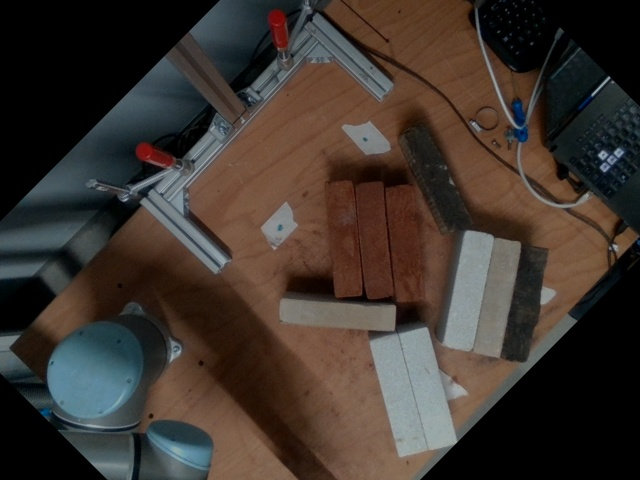brick-side: (405, 120, 472, 227), (369, 336, 427, 457), (401, 328, 457, 449), (445, 231, 494, 350), (476, 238, 521, 356), (502, 246, 547, 360), (385, 186, 422, 299), (327, 181, 363, 297), (358, 183, 391, 297), (283, 301, 395, 331)
